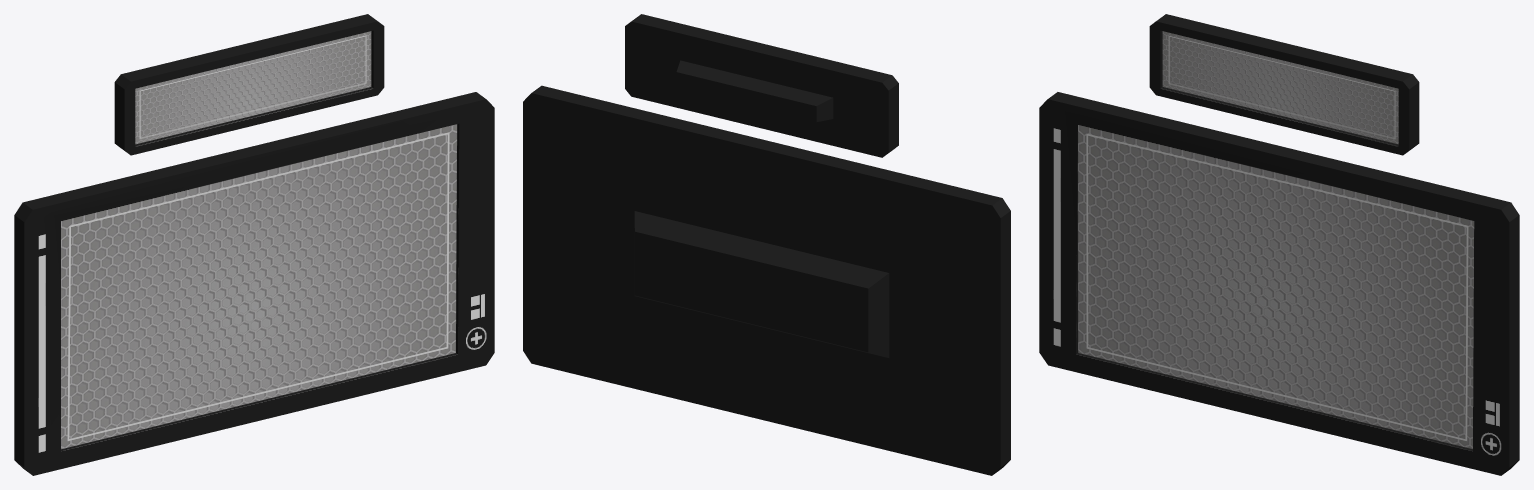
File: Hangar Display.FBX
The picture shows the model from 3 angles, left to right: view 1: azimuth 30°, elevation 25°; view 2: azimuth 150°, elevation 25°; view 3: azimuth 330°, elevation 25°; orthographic projection.
Visible parts, largest first — view 1: Box001, Box002; view 2: Box001, Box002; view 3: Box001, Box002.
Part boxes in pixels (box(x1,y1,x2,y2)): Box001: box(14, 92, 494, 475); Box002: box(114, 14, 384, 155); Box001: box(523, 85, 1010, 475); Box002: box(625, 14, 898, 157); Box001: box(1039, 92, 1519, 475); Box002: box(1149, 14, 1419, 155).
Bounding box in the file's own units: 106 × 78.99 × 9.84.
